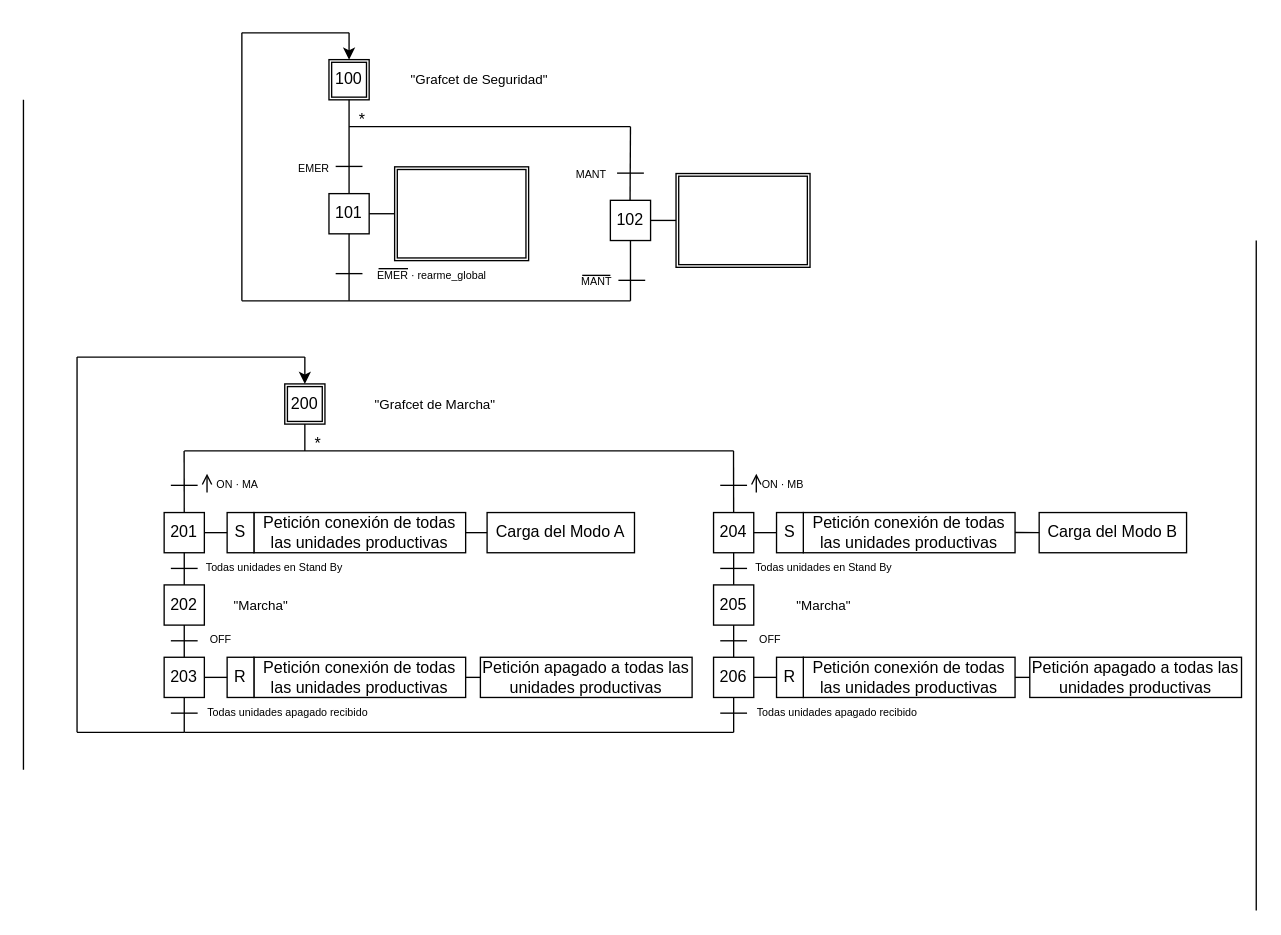
Some shapes in this 1281 by 935 pixel diagram are drawn without their labels. The centre of each missing label's shape, as x and y in pixels:
GCinta{15} GCNC{35} GPP{70} GMM{200}: the point at 461,213
GCNC{*} GCinta{*} GPP{*} GMM{*}: the point at 742,219
